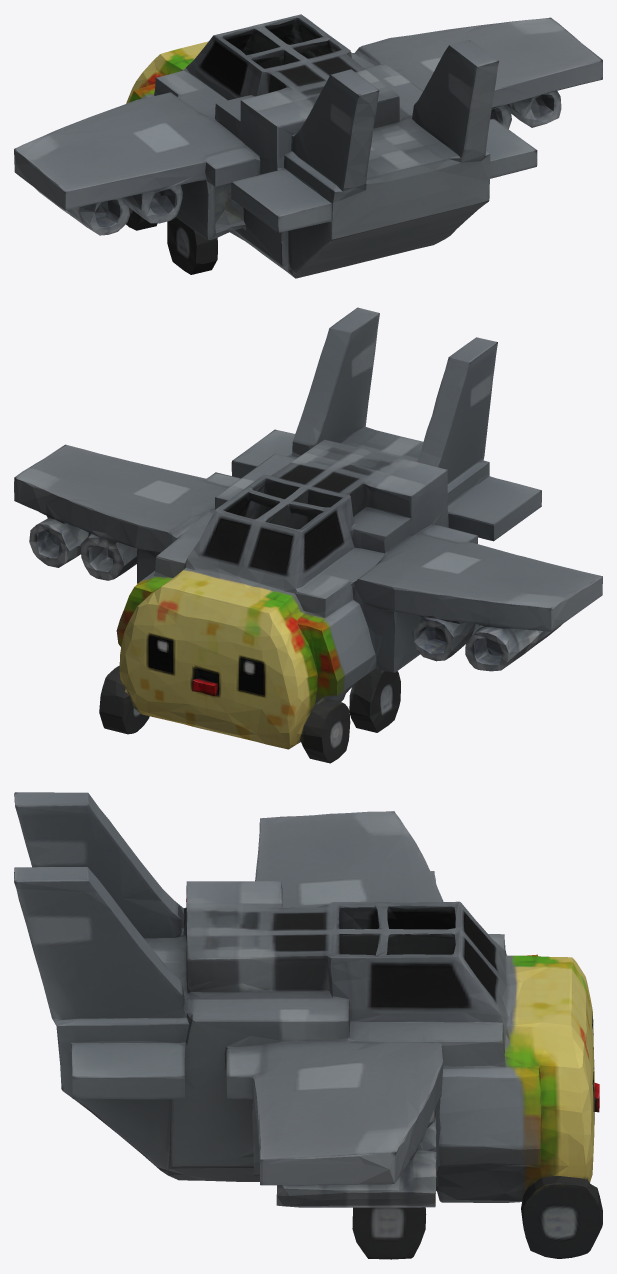
The model's file is TacoplanoBombardino.glb.
3 views of the same model, one above another, from view 1: azimuth 30°, elevation 25°; view 2: azimuth 150°, elevation 25°; view 3: azimuth 270°, elevation 25° (orthographic). The views are drawn at different scales.
Parts seen in each view (by area): view 1: geometry_0; view 2: geometry_0; view 3: geometry_0.
Boxes of the visible parts, box(x1,y1,x2,y2) form: geometry_0: box(14, 14, 602, 278); geometry_0: box(14, 307, 602, 763); geometry_0: box(14, 792, 602, 1259).
Size of the model in its own units: 2.05 by 1 by 1.49.
Materials: 1 (1 with a texture image).
